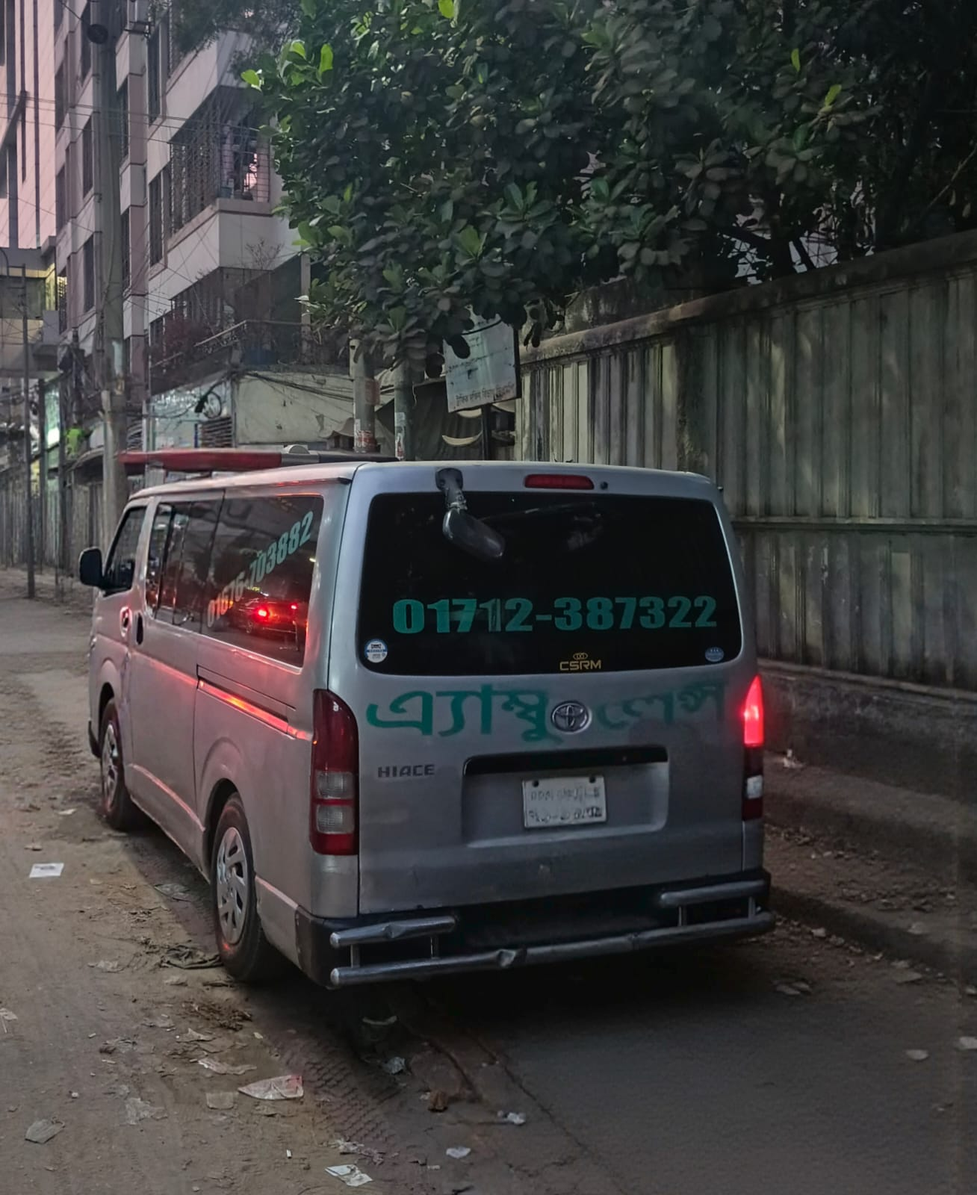Ambulance: (71, 419, 798, 1023)
